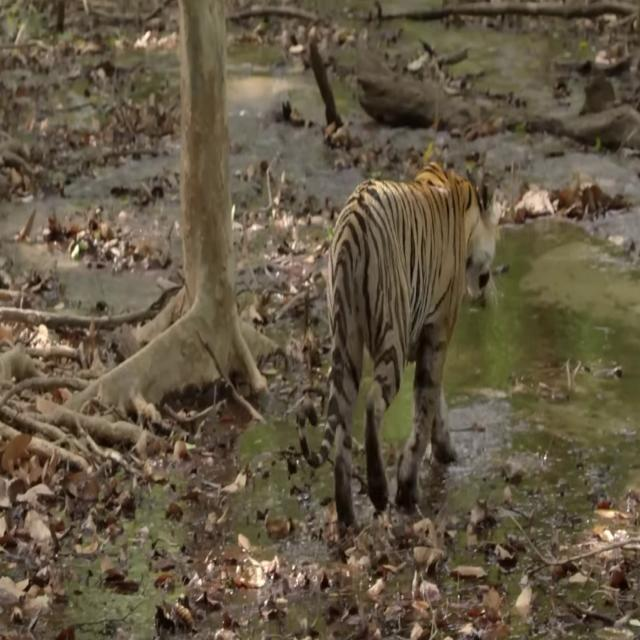tiger: (297, 162, 497, 524)
